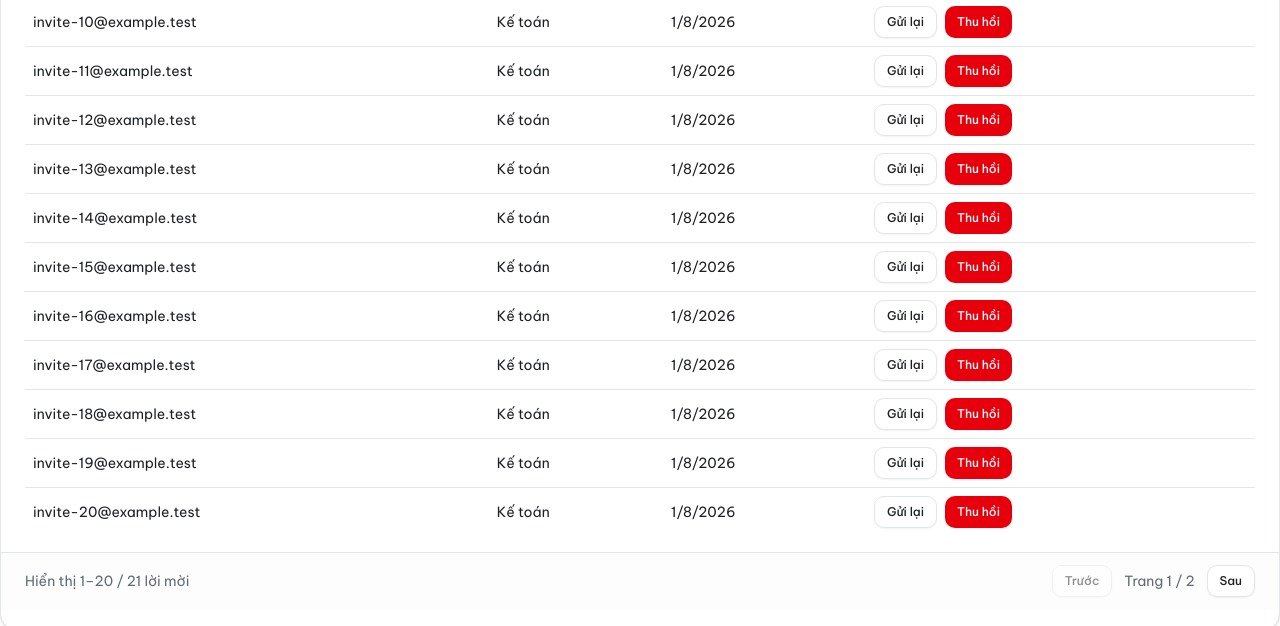
UsersTab › returns to the last valid invites page after revoking its final row
This screenshot has width=1280, height=626.
(page scrolled)
Click the button with aria-label "Trang lời mời tiếp theo": (1231, 581) x1=1207 y1=565 x2=1255 y2=597
(page scrolled)
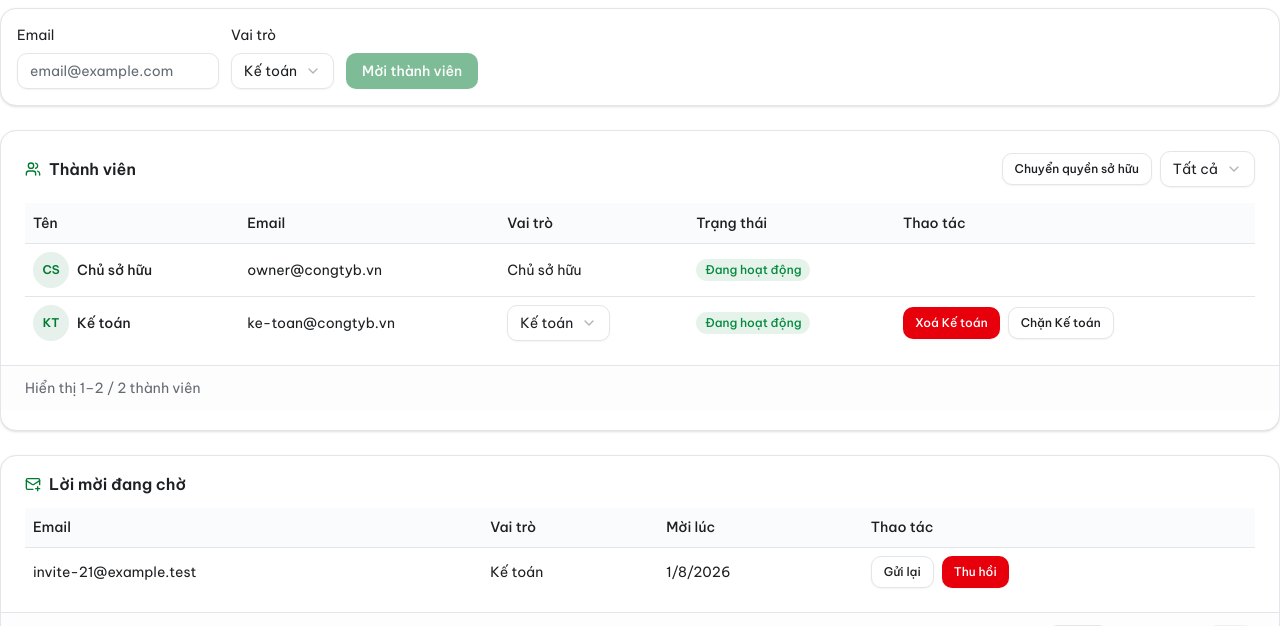
Check: the text "invite-21@example.test" is shown, box x1=25 y1=548 x2=482 y2=596
Click the button "Thu hồi": (975, 572) x1=942 y1=556 x2=1009 y2=588
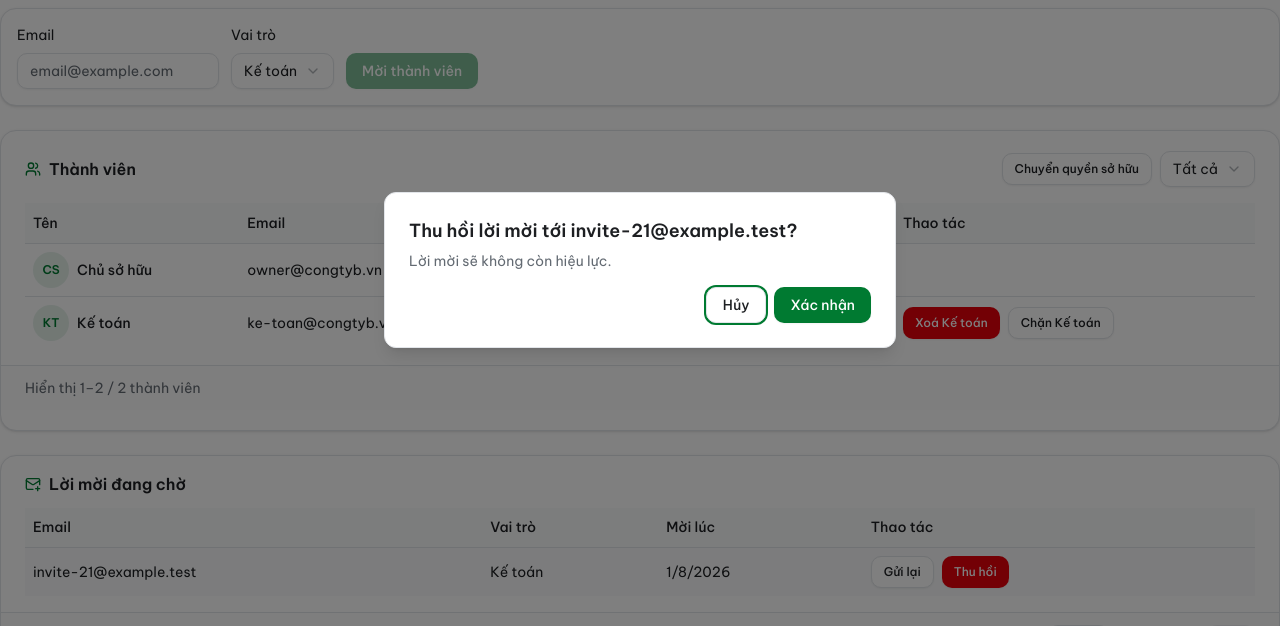
Click the button "Xác nhận": (823, 305) x1=774 y1=287 x2=871 y2=323
(page scrolled)
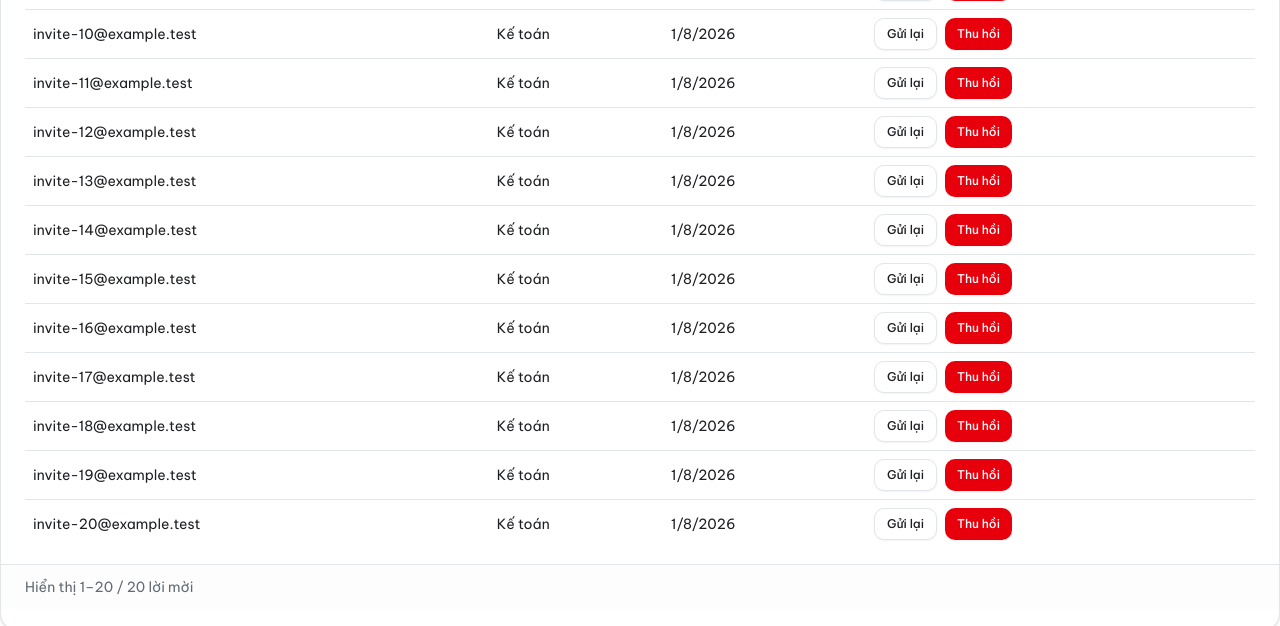
Check: the text "invite-21@example.test" is gone
Check: the text "Hiển thị 1–20 / 20 lời mời" is shown, box x1=25 y1=577 x2=193 y2=597
